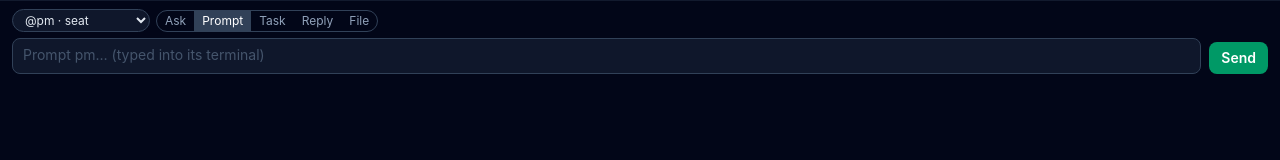
Scenario: Composer › @name to an agent you may not use is refused before sending
Type "@opus-fe hi" into the text box named "Message" at (607, 56), box [12, 38, 1201, 74]
Then press Enter
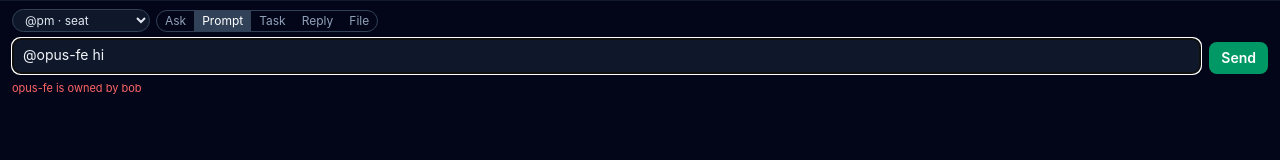
Expected: the message reads "opus-fe is owned by bob", [12, 81, 142, 95]
